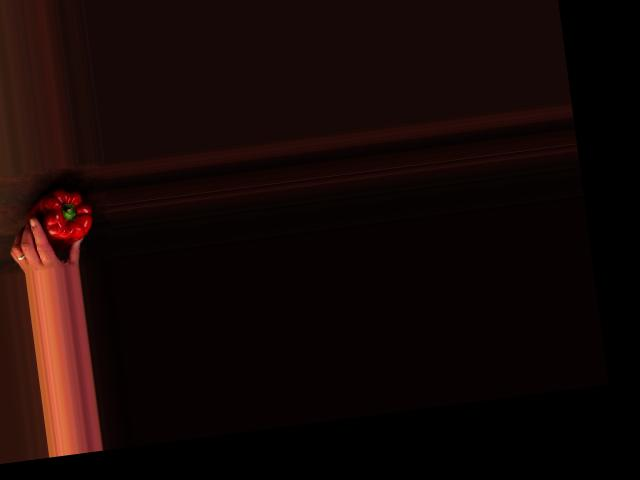bell_pepper: (27, 183, 97, 250)
